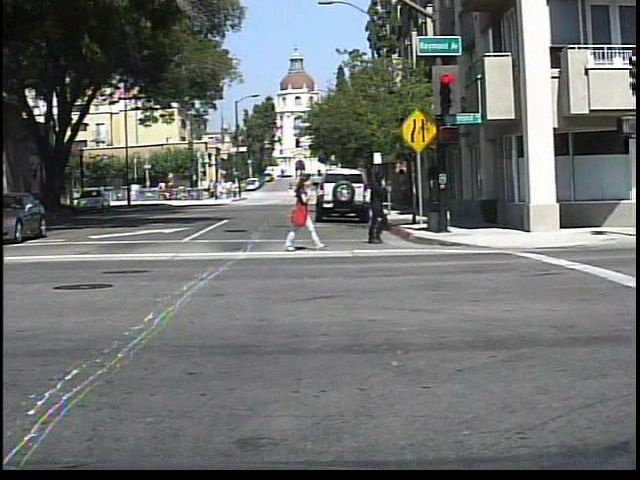person: (353, 167, 399, 250), (283, 167, 323, 251), (289, 182, 304, 202)
